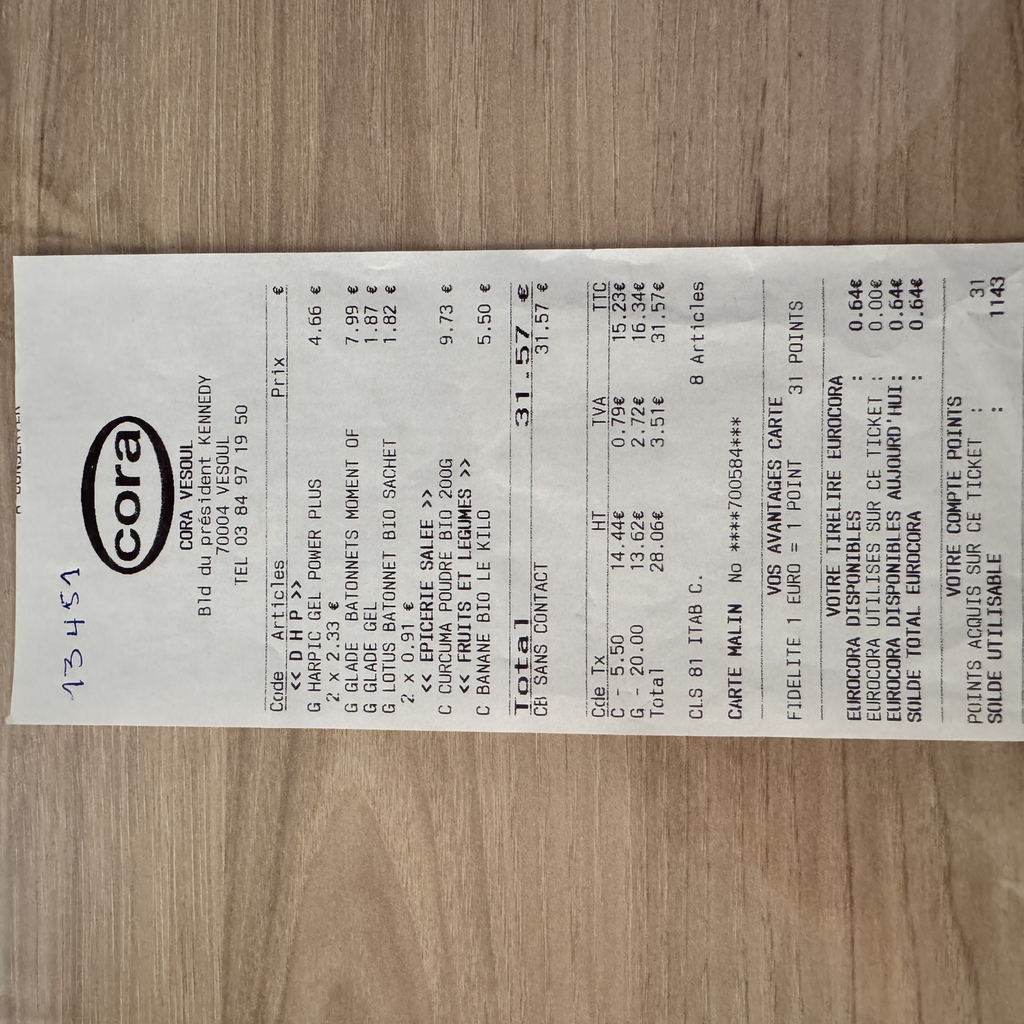recipt: (6, 243, 1024, 745)
